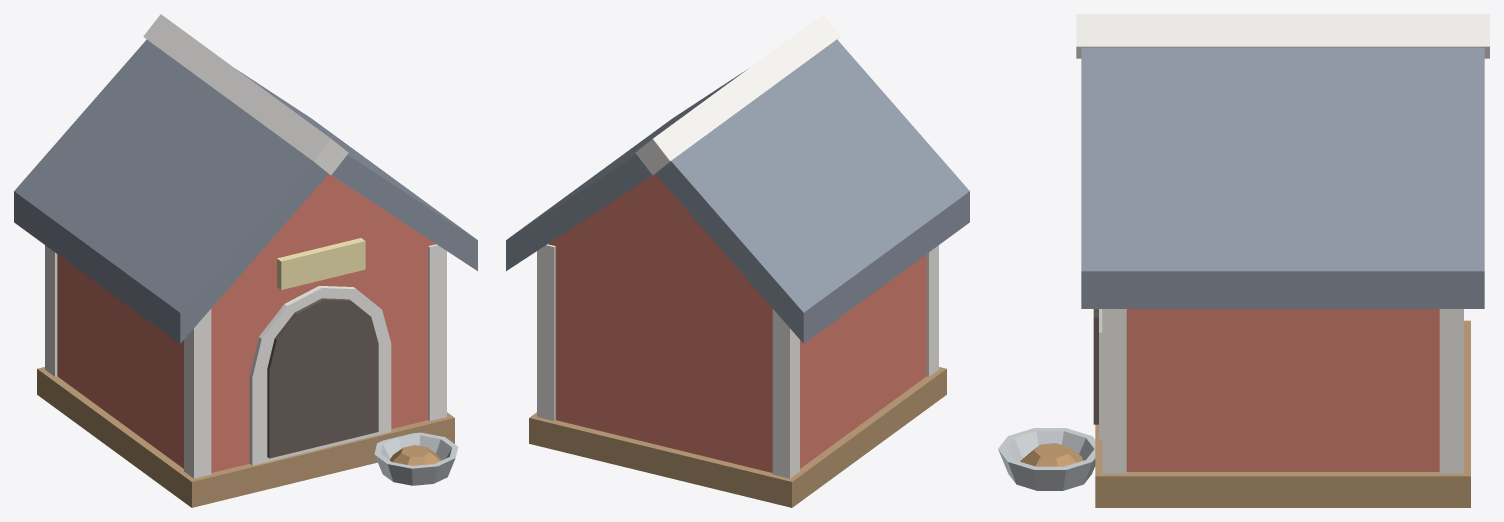
The model's file is doghouse.glb.
3 views of the same model, side by side, from view 1: azimuth 30°, elevation 25°; view 2: azimuth 150°, elevation 25°; view 3: azimuth 270°, elevation 25° (orthographic). The views are drawn at different scales.
Visible parts, largest first — view 1: roof, walls, door, base, corners, ridge_cap, door_frame, name_plate, bowl, kibble; view 2: walls, roof, base, corners, ridge_cap; view 3: roof, walls, base, ridge_cap, corners, bowl, kibble, door.
Part boxes in pixels (bbox=[...]): roof: bbox=[14, 39, 477, 343]; walls: bbox=[57, 174, 435, 472]; door: bbox=[267, 298, 378, 458]; base: bbox=[37, 367, 454, 507]; corners: bbox=[45, 244, 446, 478]; ridge_cap: bbox=[143, 14, 348, 174]; door_frame: bbox=[249, 286, 391, 465]; name_plate: bbox=[277, 238, 365, 289]; bowl: bbox=[374, 432, 458, 485]; kibble: bbox=[390, 445, 441, 465]; walls: bbox=[548, 174, 926, 472]; roof: bbox=[506, 39, 969, 343]; base: bbox=[529, 367, 946, 507]; corners: bbox=[537, 244, 938, 478]; ridge_cap: bbox=[635, 14, 840, 174]; roof: bbox=[1081, 47, 1484, 308]; walls: bbox=[1126, 309, 1439, 471]; base: bbox=[1095, 320, 1470, 507]; ridge_cap: bbox=[1076, 14, 1489, 58]; corners: bbox=[1102, 309, 1463, 473]; bowl: bbox=[998, 428, 1095, 490]; kibble: bbox=[1020, 443, 1082, 466]; door: bbox=[1093, 309, 1098, 424].
Size of the model in its own units: 1.2 by 1.32 by 1.42.
